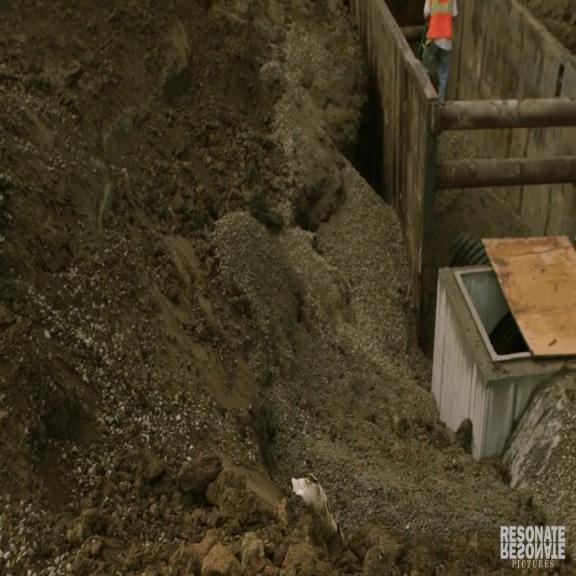safety_vest: (426, 0, 456, 42)
